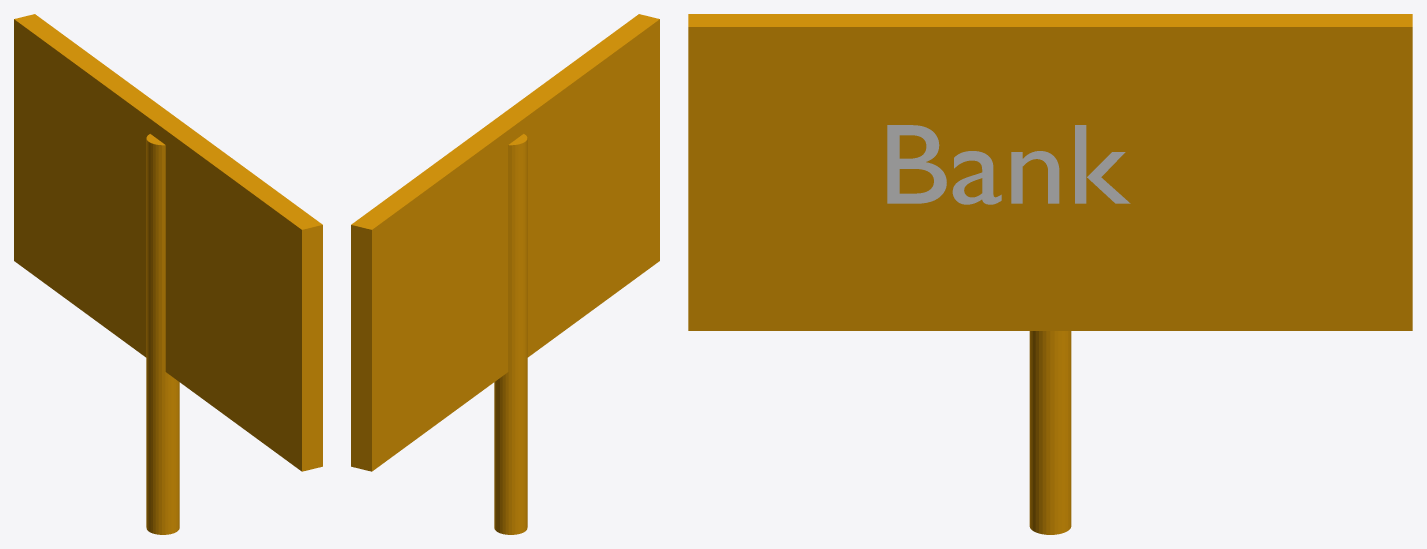
The model's file is Kyltti9.fbx.
3 renders of one model, left to right at view 1: azimuth 30°, elevation 25°; view 2: azimuth 150°, elevation 25°; view 3: azimuth 270°, elevation 25°, orthographic. The views are drawn at different scales.
Parts seen in each view (by area): view 1: Kyltti9, Cylinder.008; view 2: Kyltti9, Cylinder.008; view 3: Kyltti9, Cylinder.008, Text.010.
Boxes of the visible parts, left/top/right/bottom form: Kyltti9: left=14, top=14, right=322, bottom=471; Cylinder.008: left=146, top=134, right=179, bottom=534; Kyltti9: left=351, top=14, right=659, bottom=471; Cylinder.008: left=494, top=134, right=527, bottom=534; Kyltti9: left=688, top=14, right=1412, bottom=330; Cylinder.008: left=1029, top=331, right=1071, bottom=534; Text.010: left=887, top=125, right=1130, bottom=204.
Bounding box in the file's own units: 36.68 × 442 × 570.
